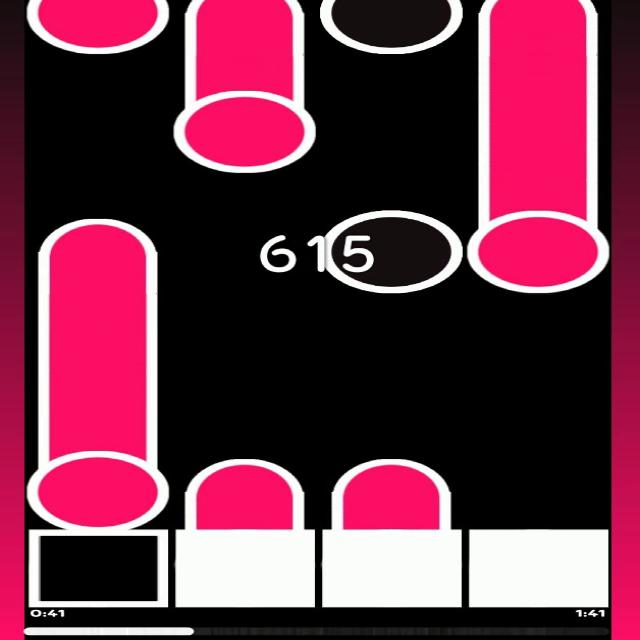end_hold: (35, 208, 160, 262), (182, 451, 306, 496), (329, 451, 453, 495)
note: (320, 209, 464, 294), (320, 0, 464, 55)
start_hold: (468, 190, 608, 294), (27, 434, 172, 534), (175, 78, 316, 172), (28, 0, 169, 53)
